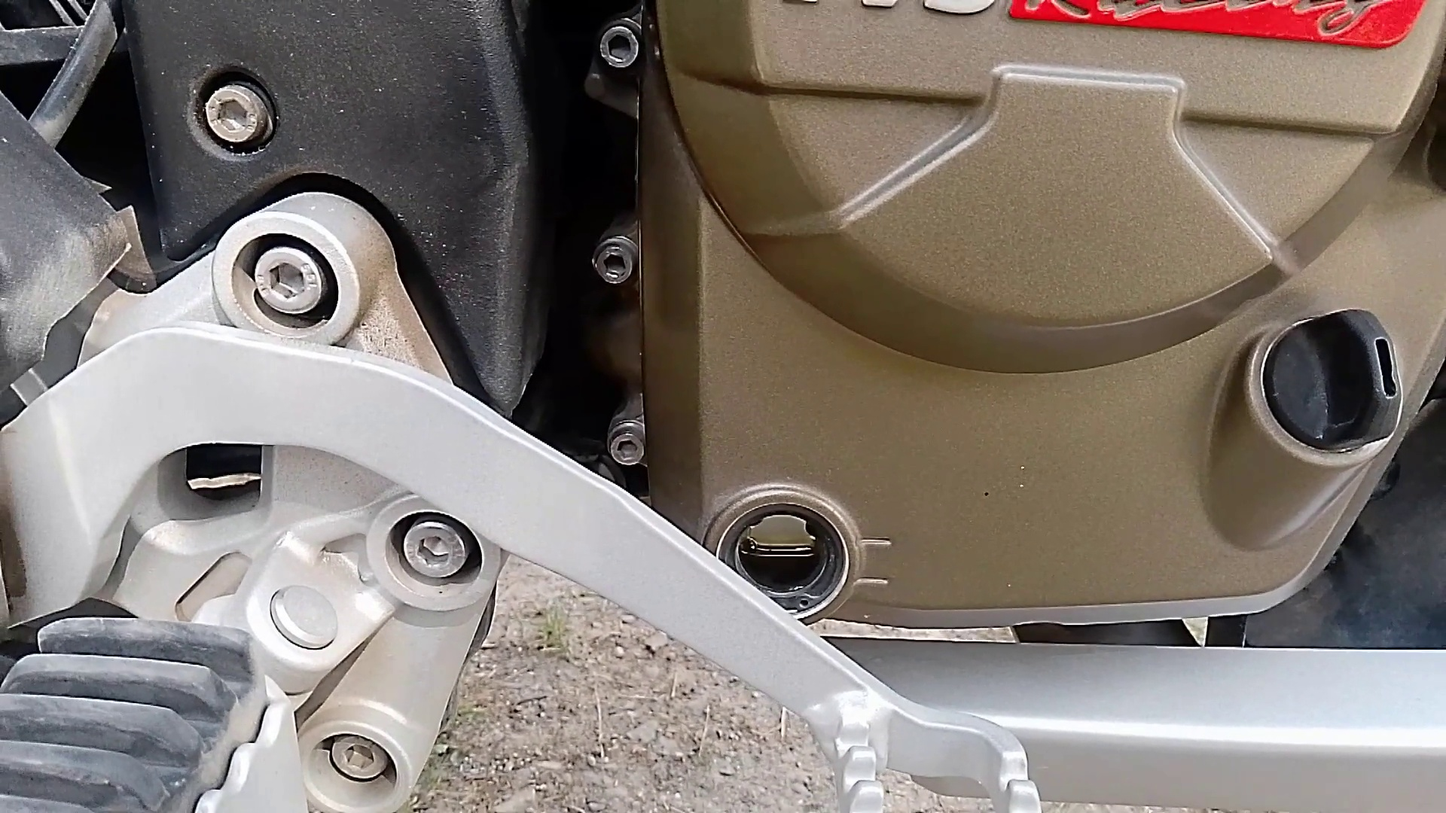bike-engine: (632, 0, 1445, 626)
bike-engine-level: (700, 480, 873, 628)
bike-oil-cap: (1241, 303, 1406, 458)
